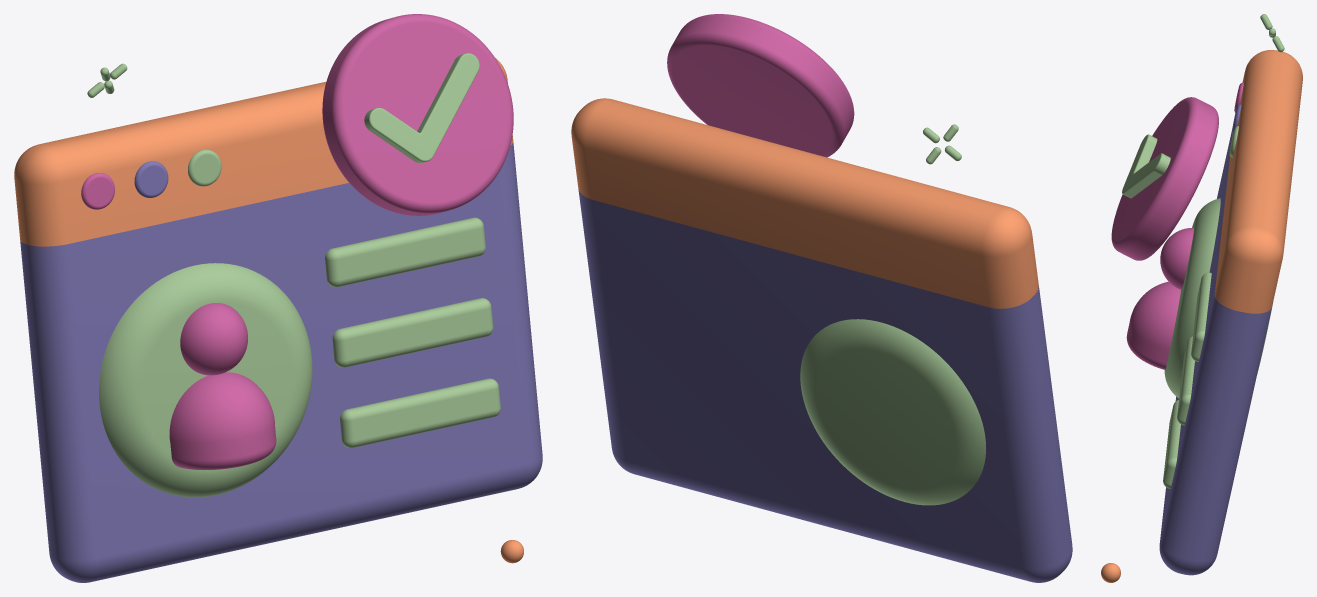
Rendered from account-3d-animated-icon-1106052596008.glb.
3 views of the same model, side by side, from view 1: azimuth 30°, elevation 25°; view 2: azimuth 150°, elevation 25°; view 3: azimuth 270°, elevation 25° (orthographic). The views are drawn at different scales.
Visible parts, largest first — view 1: Cube.003, Cylinder.001, Cylinder.006, Cube.018, Sphere.007, Curve.003, Cylinder; view 2: Cube.003, Cylinder.001, Cylinder.006, Cylinder.020; view 3: Cube.003, Cylinder.006, Sphere.007, Cylinder.001, Cube.018, Curve.003, Cylinder, Sphere.004, Cylinder.020.
Boxes of the visible parts, left/top/right/bottom form: Cube.003: left=14, top=58, right=542, bottom=582; Cylinder.001: left=99, top=263, right=312, bottom=497; Cylinder.006: left=322, top=14, right=513, bottom=215; Cube.018: left=325, top=217, right=500, bottom=448; Sphere.007: left=169, top=303, right=276, bottom=470; Curve.003: left=364, top=53, right=479, bottom=163; Cylinder: left=81, top=149, right=221, bottom=209; Cube.003: left=571, top=98, right=1072, bottom=582; Cylinder.001: left=800, top=319, right=985, bottom=505; Cylinder.006: left=667, top=14, right=854, bottom=157; Cylinder.020: left=923, top=124, right=961, bottom=164; Cube.003: left=1159, top=50, right=1302, bottom=575; Cylinder.006: left=1111, top=97, right=1218, bottom=260; Sphere.007: left=1126, top=228, right=1193, bottom=369; Cylinder.001: left=1164, top=198, right=1273, bottom=398; Cube.018: left=1163, top=272, right=1211, bottom=488; Curve.003: left=1122, top=134, right=1170, bottom=198; Cylinder: left=1229, top=82, right=1243, bottom=157; Sphere.004: left=1101, top=563, right=1120, bottom=582; Cylinder.020: left=1260, top=14, right=1284, bottom=52.
Bounding box in the file's own units: 1.94 × 2.05 × 0.8326.
